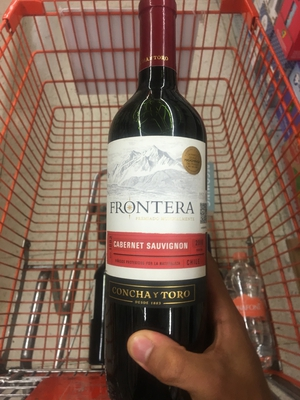frontera cabernet sauvignon: (89, 43, 246, 400)
